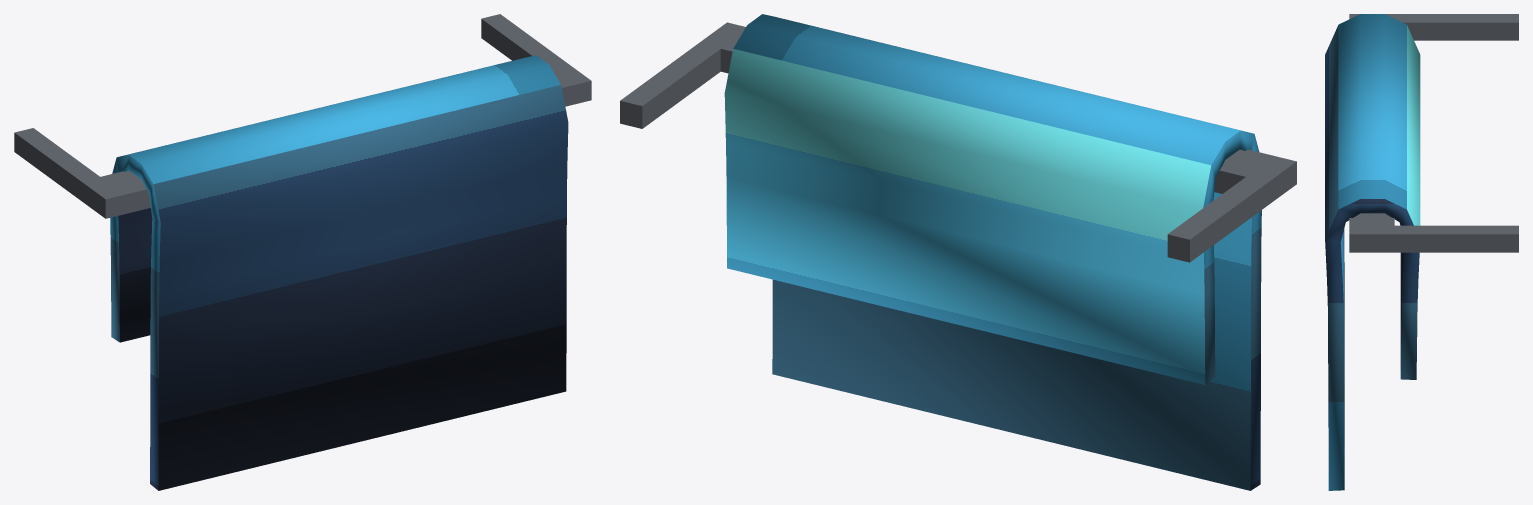
The model's file is Building_Toilet_Towel.glb.
3 views of the same model, side by side, from view 1: azimuth 30°, elevation 25°; view 2: azimuth 150°, elevation 25°; view 3: azimuth 270°, elevation 25° (orthographic). The views are drawn at different scales.
Visible parts, largest first — view 1: Building_Toilet_Towel; view 2: Building_Toilet_Towel; view 3: Building_Toilet_Towel.
Boxes of the visible parts, <box> form: Building_Toilet_Towel: <box>14,14,591,490</box>; Building_Toilet_Towel: <box>620,14,1296,490</box>; Building_Toilet_Towel: <box>1325,14,1518,490</box>.
Bounding box in the file's own units: 0.2236 × 0.1382 × 0.0832.
Materials: 1 (1 with a texture image).
